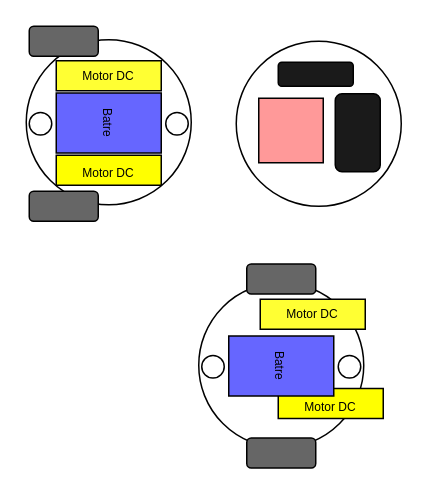
Some shapes in this 428 by 495 pixel diagram are drawn without their labels. Each missing label, with the box of its shape:
ESP32: (334, 92, 380, 172)
NRF24L01: (277, 61, 353, 86)
Stepper Motor: (257, 97, 323, 163)
